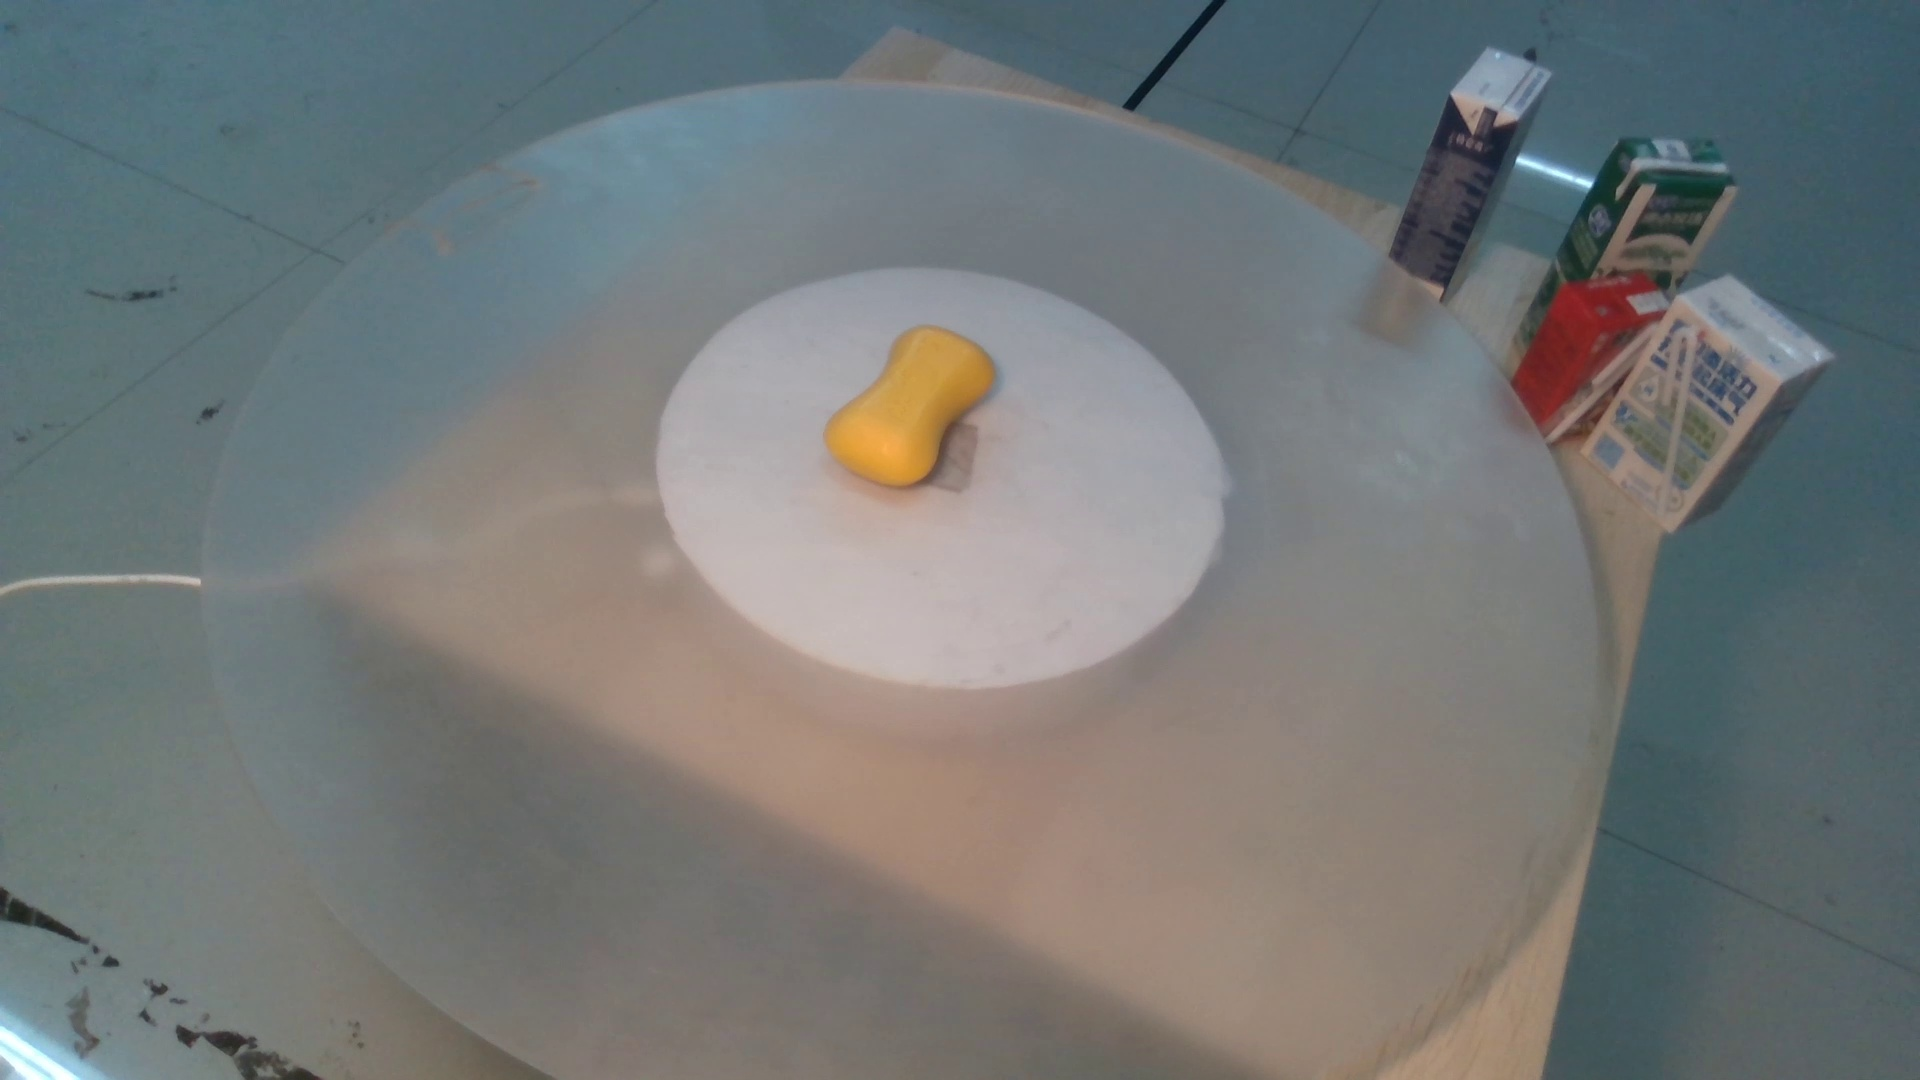CA003_1: (822, 313, 1011, 502)
